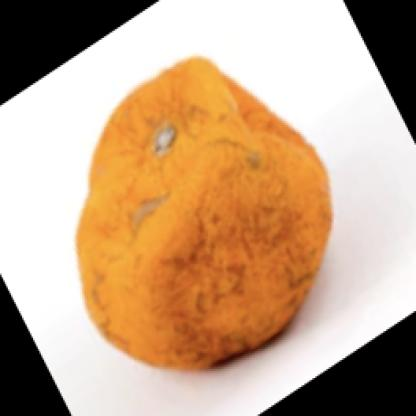rotten: (77, 57, 333, 373)
